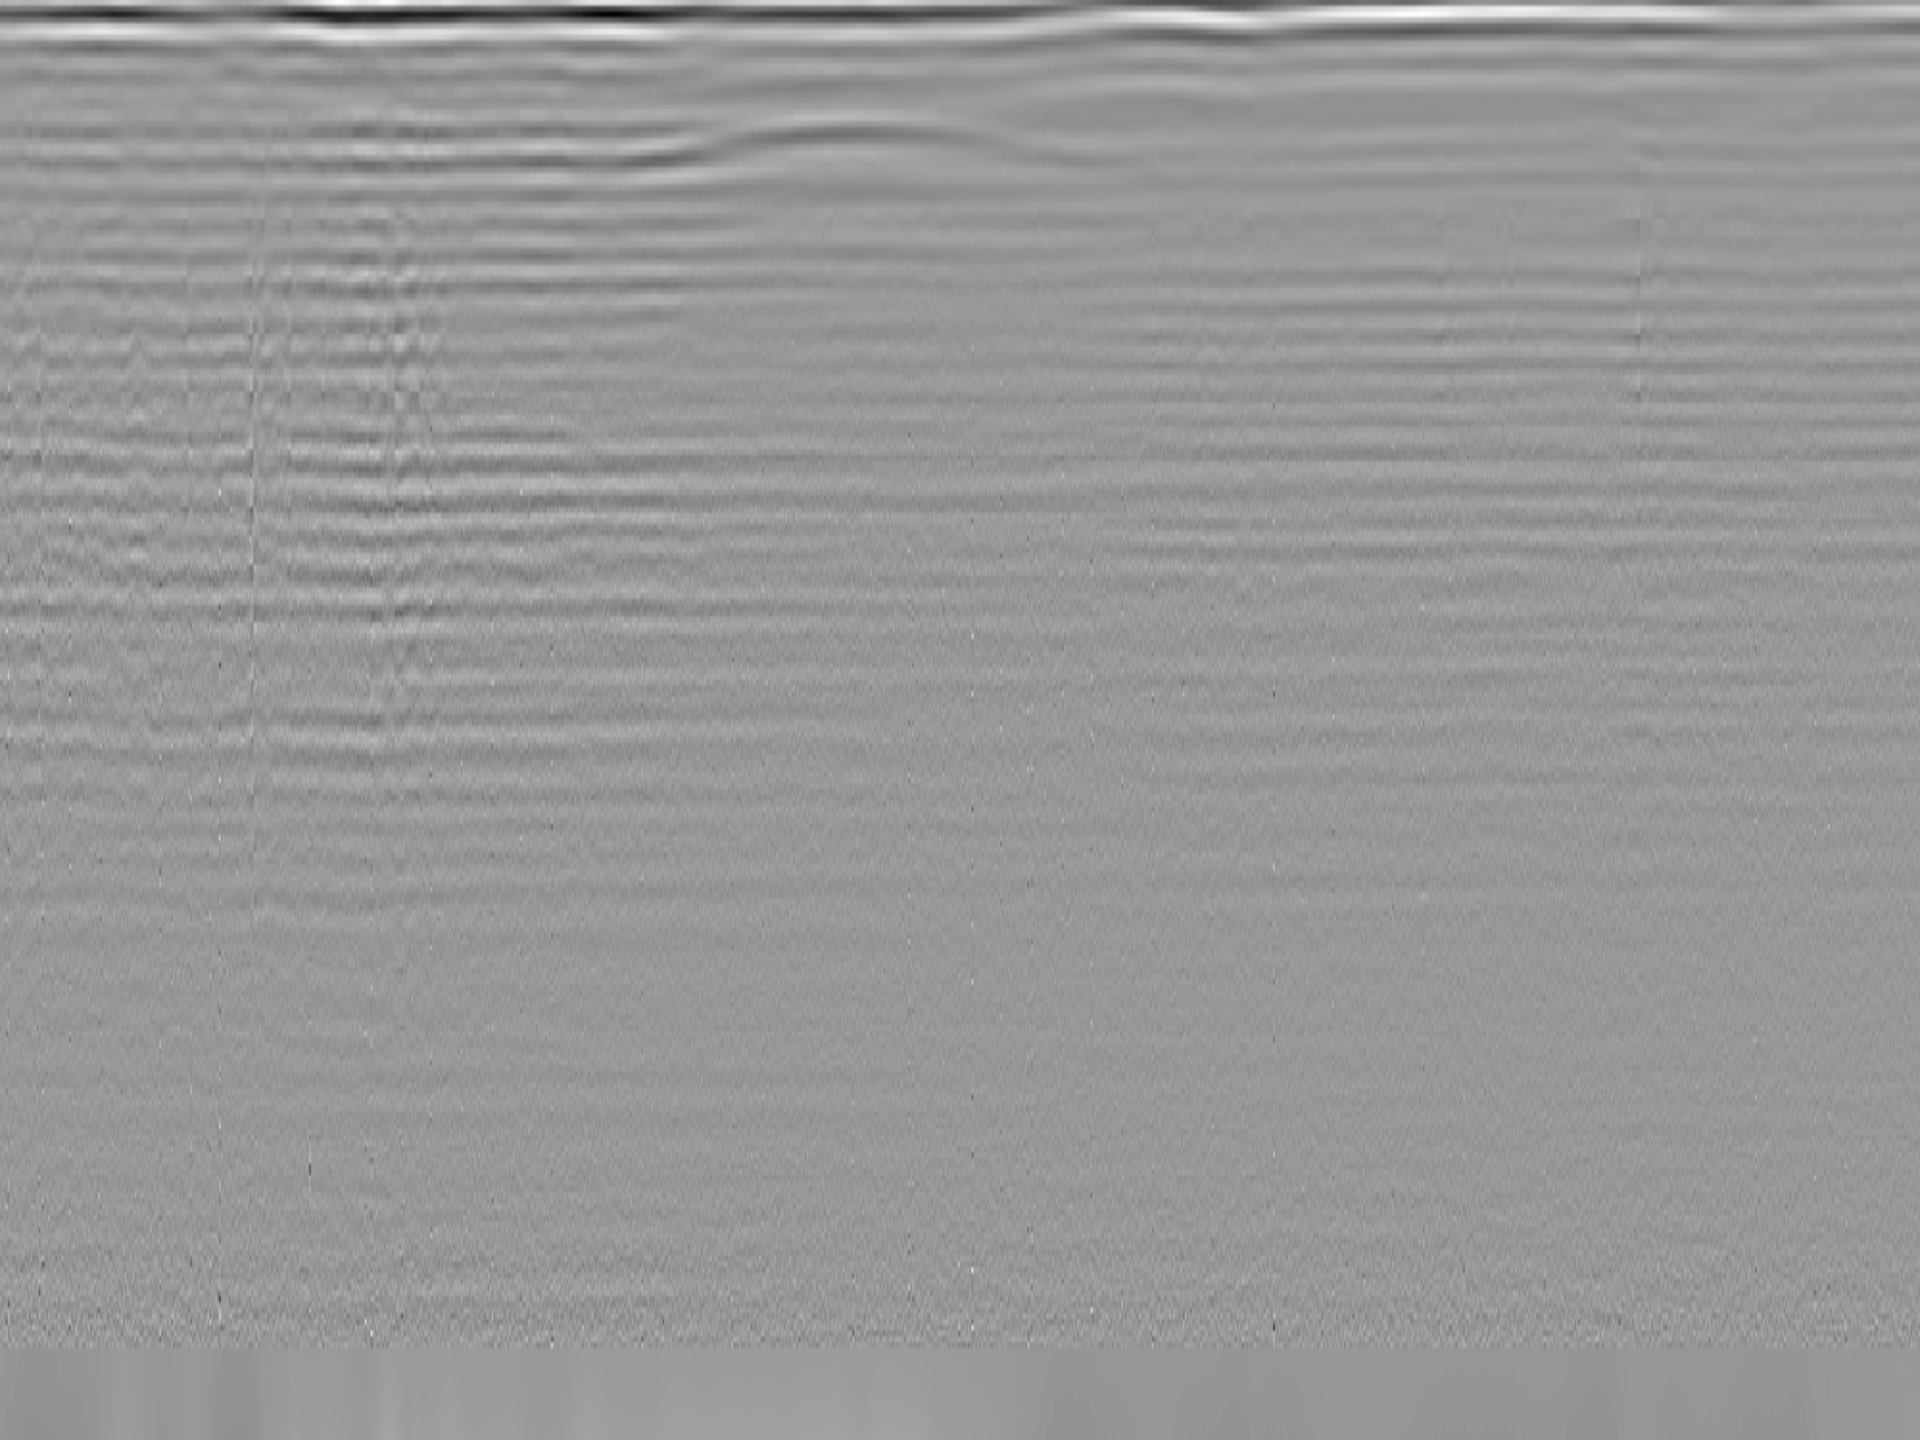Tunnel: (590, 109, 1166, 166)
